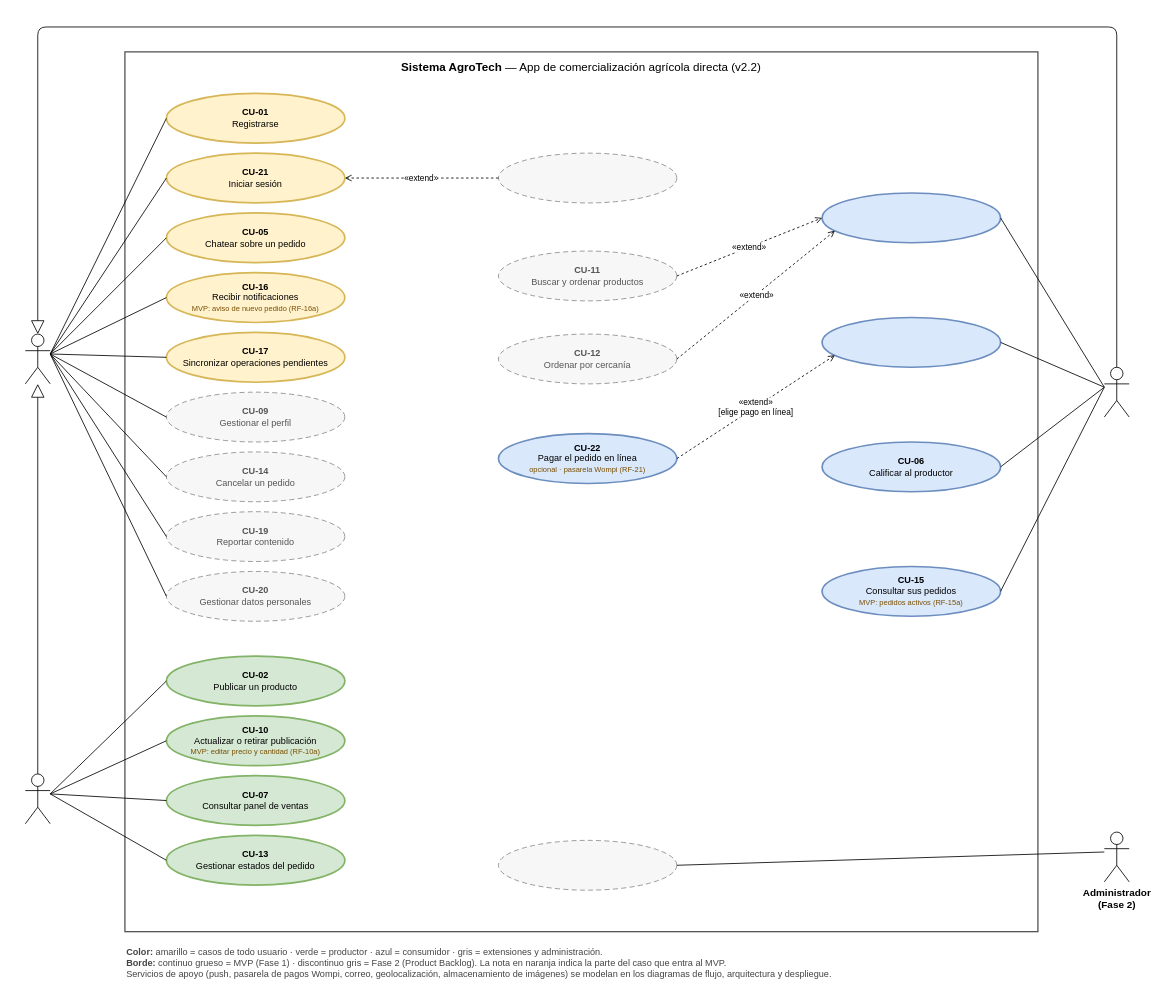
This 1165x1003 diagram has some shape labels left out. Each missing label, with the centre of its shape:
Consumidor final: [1116,391]
CU-03 Consultar catálogo con filtros: [911,217]
CU-04 Confirmar un pedido: [911,342]
CU-08 Recuperar la contraseña: [587,177]
CU-18 Administrar y moderar: [587,865]
Productor agrícola: [37,798]
Usuario: [37,358]
